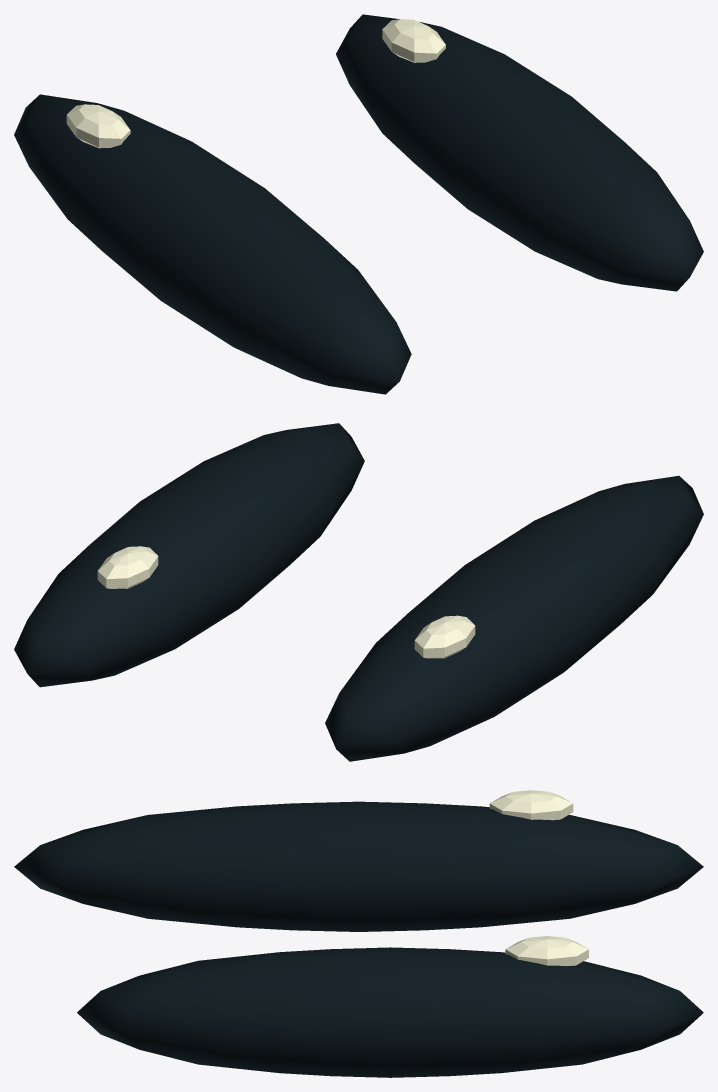
Rendered from eye_double_slit.glb.
The picture shows the model from 3 angles, top to bottom: view 1: azimuth 30°, elevation 25°; view 2: azimuth 150°, elevation 25°; view 3: azimuth 270°, elevation 25°; orthographic projection. The views are drawn at different scales.
Parts seen in each view (by area): view 1: eye_double_slit, eye_double_slit_glint; view 2: eye_double_slit, eye_double_slit_glint; view 3: eye_double_slit, eye_double_slit_glint.
Boxes of the visible parts, <box> form: eye_double_slit: <box>14,14,703,394</box>; eye_double_slit_glint: <box>66,19,445,148</box>; eye_double_slit: <box>14,423,703,761</box>; eye_double_slit_glint: <box>97,546,475,658</box>; eye_double_slit: <box>14,801,703,1077</box>; eye_double_slit_glint: <box>489,790,588,966</box>.
Size of the model in its own units: 0.32 by 0.085 by 0.44.
